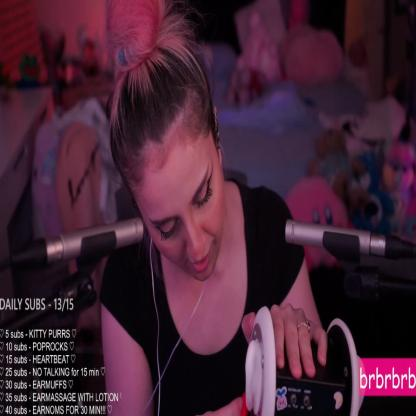streamer: (101, 0, 328, 416)
